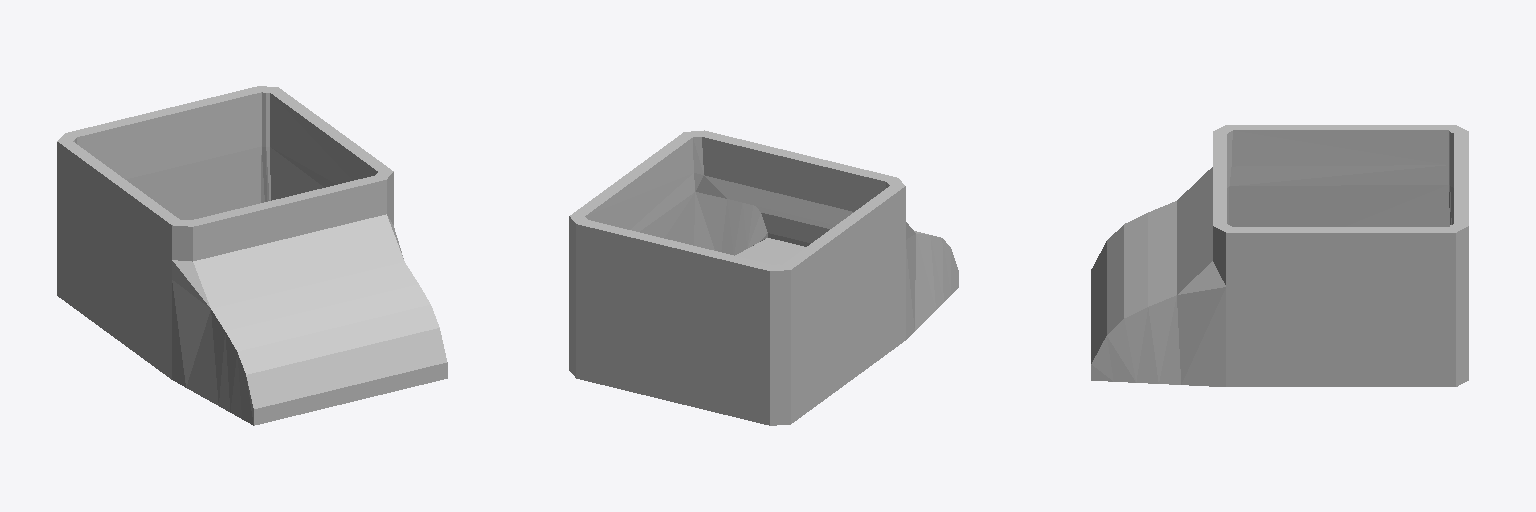
The model's file is bootSelected.mtl.obj.
3 renders of one model, left to right at view 1: azimuth 30°, elevation 25°; view 2: azimuth 150°, elevation 25°; view 3: azimuth 270°, elevation 25°, orthographic.
Parts seen in each view (by area): view 1: boot; view 2: boot; view 3: boot.
Part boxes in pixels (x1,y1,x2,y2): boot: (57,86,447,425); boot: (569,130,958,425); boot: (1091,125,1468,386).
Bounding box in the file's own units: 0.9936 × 0.6622 × 1.47.